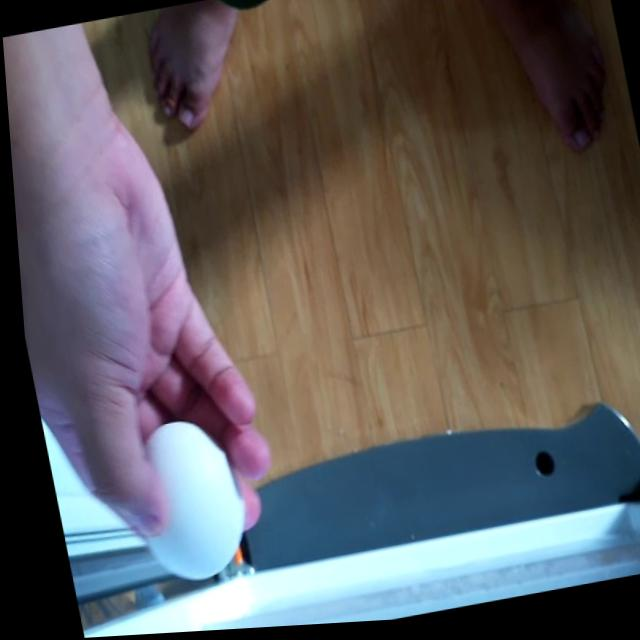egg: (116, 408, 248, 599)
